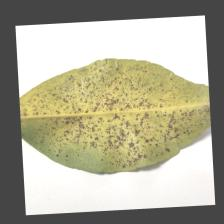canker: (57, 87, 153, 150)
